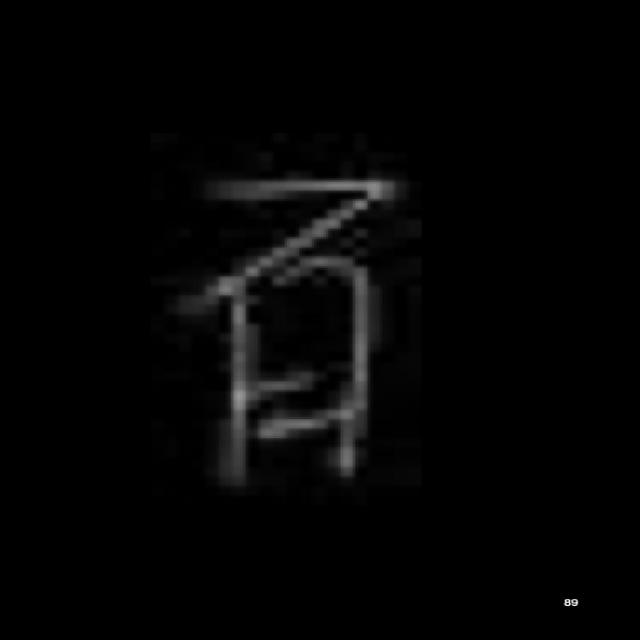100 -a hundred-: (161, 162, 400, 500)
